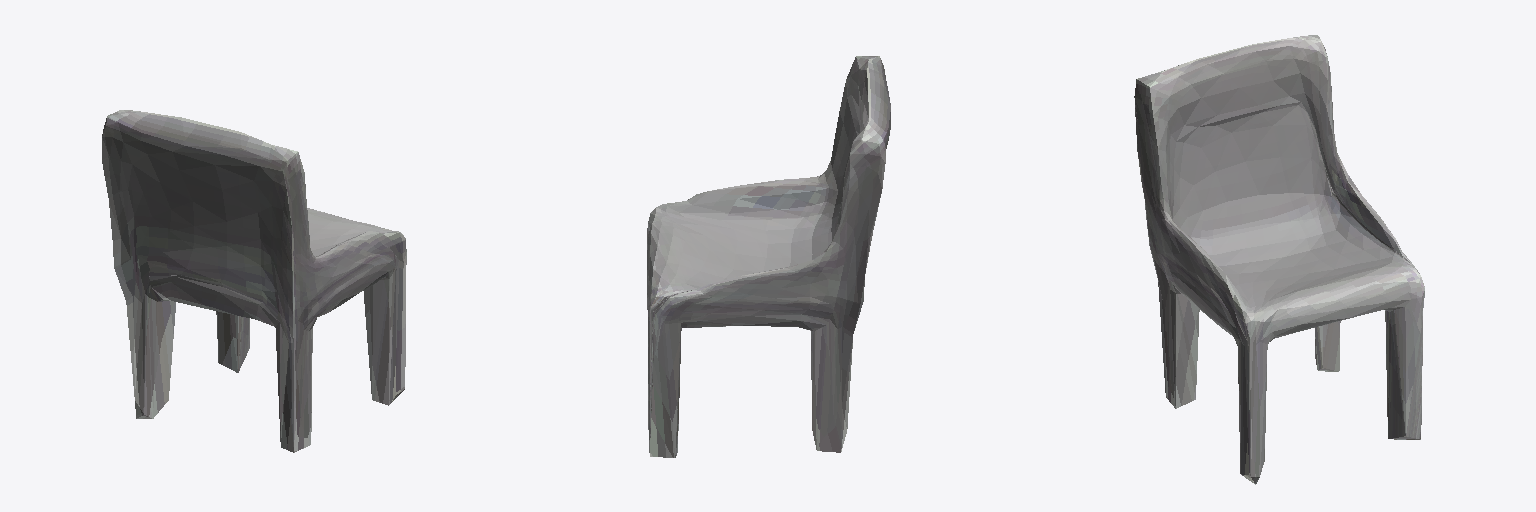
The picture shows the model from 3 angles: view 1: azimuth 30°, elevation 25°; view 2: azimuth 150°, elevation 25°; view 3: azimuth 270°, elevation 25°; orthographic projection.
Bounding box in the file's own units: 0.8385 × 1 × 0.7786.
Materials: 1 (1 with a texture image).